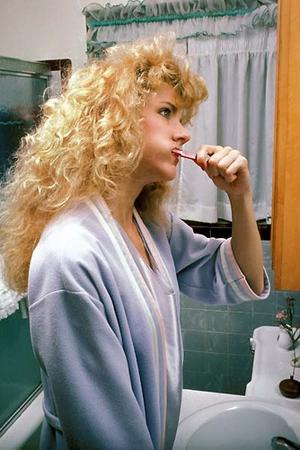person: (3, 44, 269, 450)
